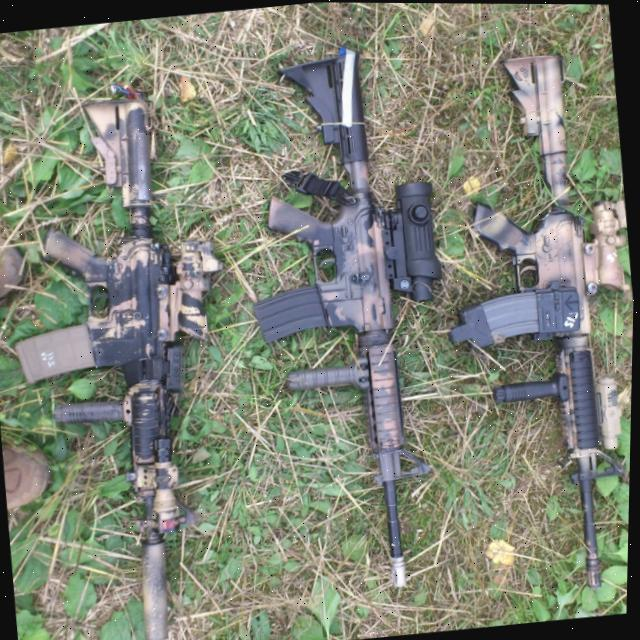firearm: (0, 85, 267, 640), (222, 42, 479, 599), (415, 44, 639, 601)
